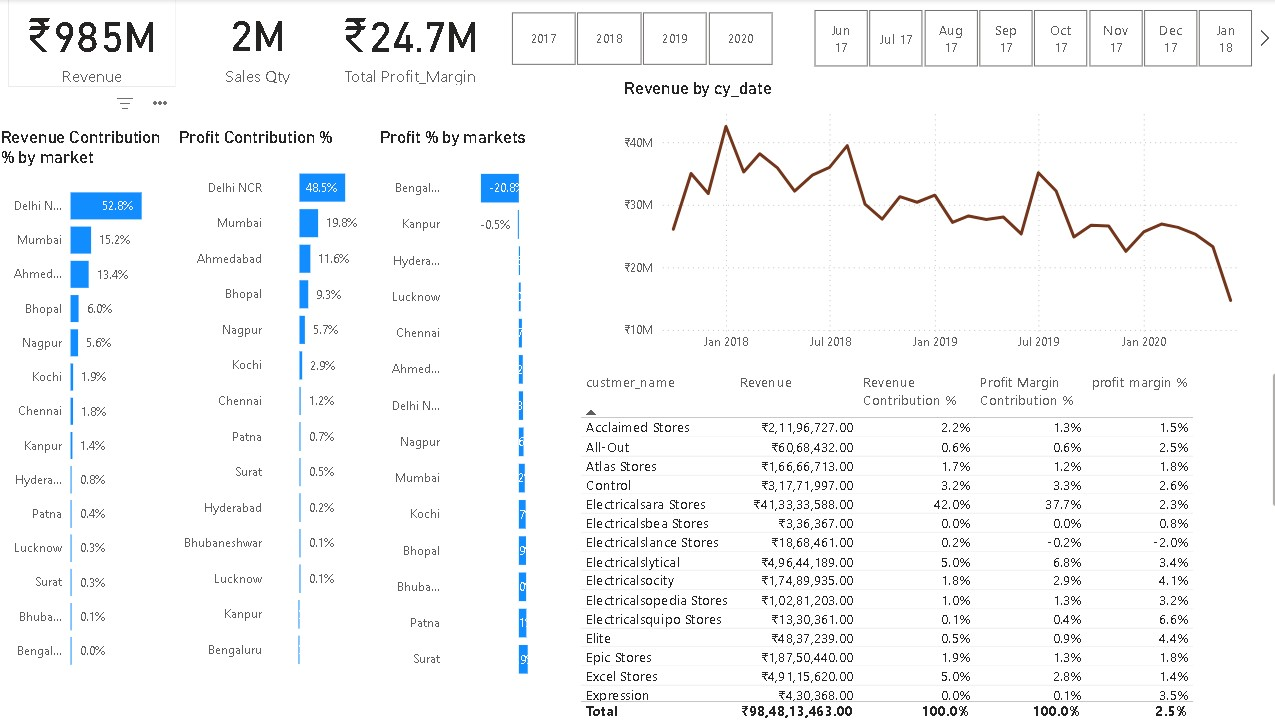

What the dashboard file says about the page in this screenshot:
{"tool":"powerbi","page":{"name":"Profit Analysis","canvas":[1280,720],"ordinal":1},"visuals":[{"type":"card","fields":{"Values":["Base_Measures.Revenue"]},"box":[10,0,166.7,88.3],"z":0},{"type":"card","fields":{"Values":["Base_Measures.Sales Qty"]},"box":[177,0,163.3,87.8],"z":1000},{"type":"barChart","title":"Profit % by markets","fields":{"Category":["markets.markets_name"],"Y":["Base_Measures.Total_profit %"]},"box":[376.9,124.4,176.6,564.8],"z":2000},{"type":"barChart","title":"Profit Contribution %","fields":{"Y":["Base_Measures.Profit Margin Contribution %"],"Category":["markets.markets_name"]},"box":[176.6,124.4,200.3,554.8],"z":3000},{"type":"slicer","fields":{"Values":["date.year"]},"box":[485.1,6.2,309.7,65.9],"z":4000},{"type":"slicer","fields":{"Values":["date.cy_date"]},"box":[788.7,6.2,481.4,65.9],"z":5000},{"type":"tableEx","title":"Top 5 Customers","fields":{"Values":["customers.custmer_name","Base_Measures.Revenue","Base_Measures.Revenue Contribution %","Base_Measures.Profit Margin Contribution %","Base_Measures.Total_profit %"]},"box":[576,368.2,704.1,352],"z":6000},{"type":"lineChart","fields":{"Category":["date.cy_date"],"Y":["Base_Measures.Revenue"]},"box":[618.2,78.4,635.7,281.1],"z":7000},{"type":"card","fields":{"Values":["Base_Measures.Total Profit_Margin"]},"box":[327.2,0,166.7,88.3],"z":8000},{"type":"barChart","title":"Revenue Contribution % by market","fields":{"Category":["markets.markets_name"],"Y":["Base_Measures.Revenue Contribution %"]},"box":[0,124.4,176.6,554.8],"z":9000}]}

Visuals, with their boxes in screenshot pixels (x1, y1, x2, y2), scaled from the page's 1280x720 canvas onto the 1275x722 screenshot:
card - Base_Measures.Revenue: Rect(10, 0, 176, 89)
card - Base_Measures.Sales Qty: Rect(176, 0, 339, 88)
"Profit % by markets" barChart: Rect(375, 125, 551, 691)
"Profit Contribution %" barChart: Rect(176, 125, 375, 681)
slicer - date.year: Rect(483, 6, 792, 72)
slicer - date.cy_date: Rect(786, 6, 1265, 72)
"Top 5 Customers" tableEx: Rect(574, 369, 1274, 721)
lineChart - date.cy_date x Base_Measures.Revenue: Rect(616, 79, 1249, 360)
card - Base_Measures.Total Profit_Margin: Rect(326, 0, 492, 89)
"Revenue Contribution % by market" barChart: Rect(0, 125, 176, 681)
